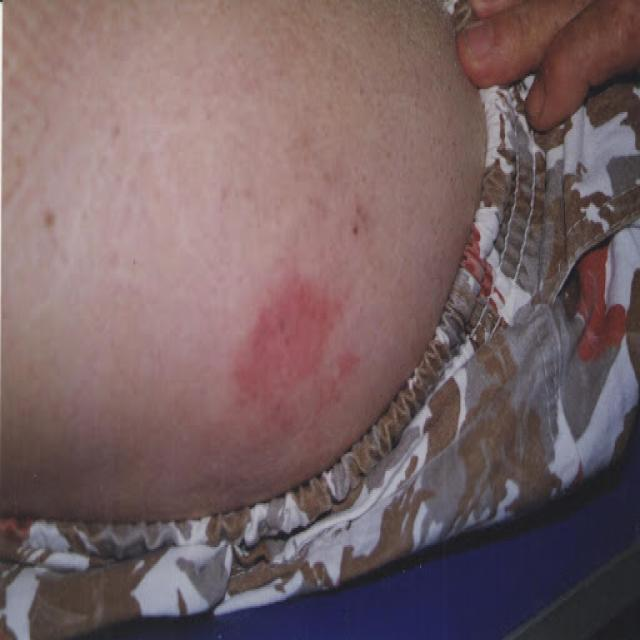stage-1: (234, 275, 358, 442)
